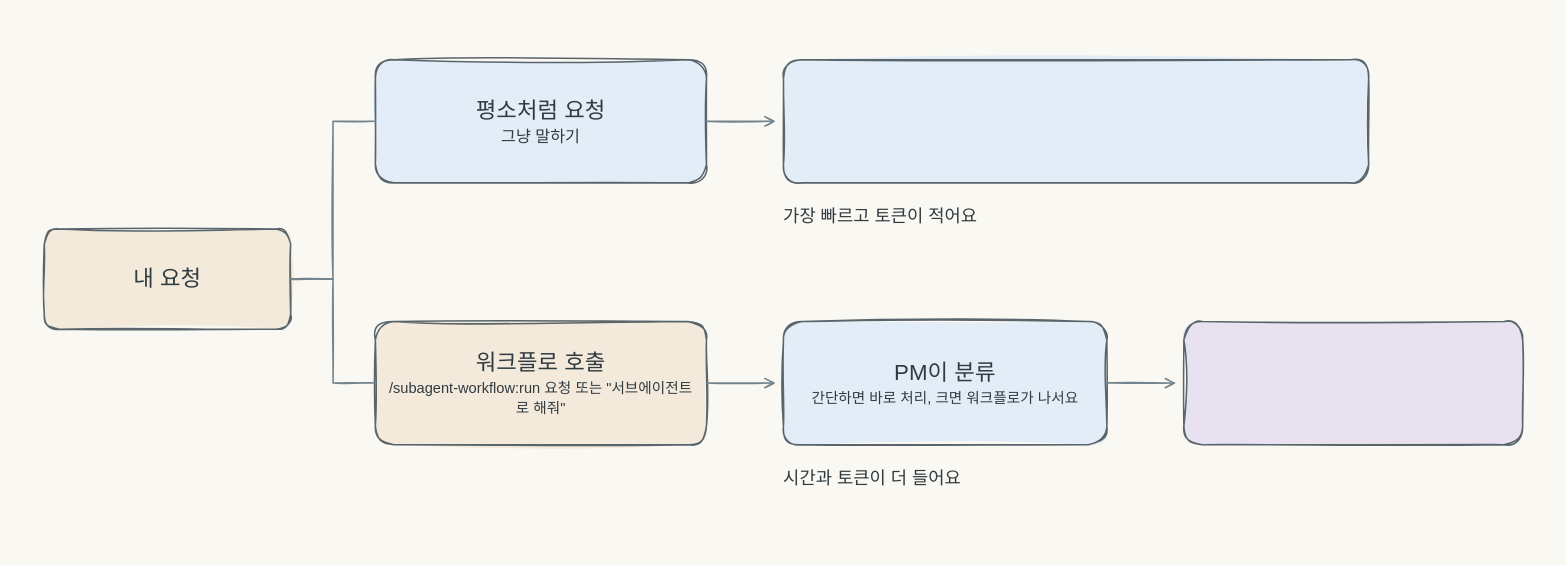
This 1566x565 diagram has some shape labels left out. Here are the shapes that lost their labels. From the top down, the box of each, then its label:
(782, 59, 1369, 183): Claude가 바로 처리 간단한 질문, 작은 수정에 알맞아요
(1183, 320, 1523, 445): 기획 → 확인 → 개발 → 검증 호출처, 계약, 빠뜨린 요구를 챙겨요
